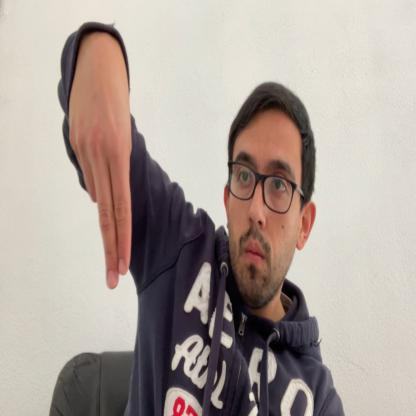N: (68, 41, 132, 289)
